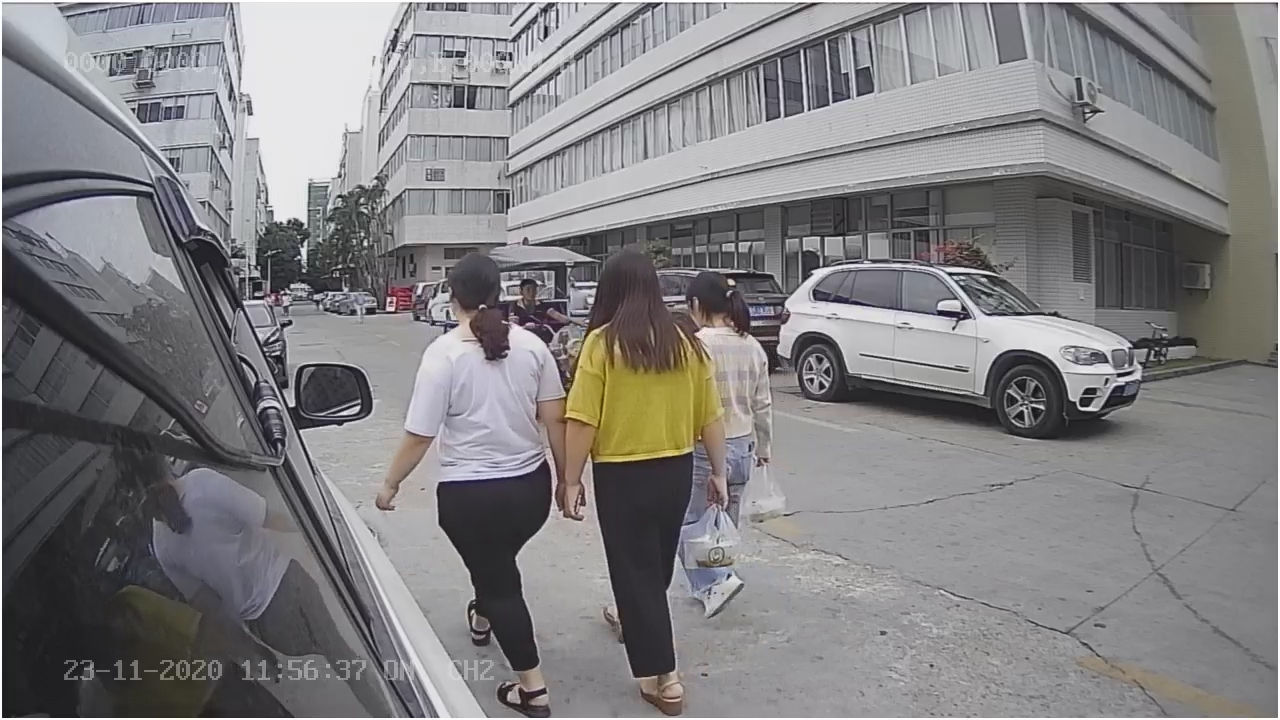person: (378, 247, 573, 718), (562, 244, 700, 720)
